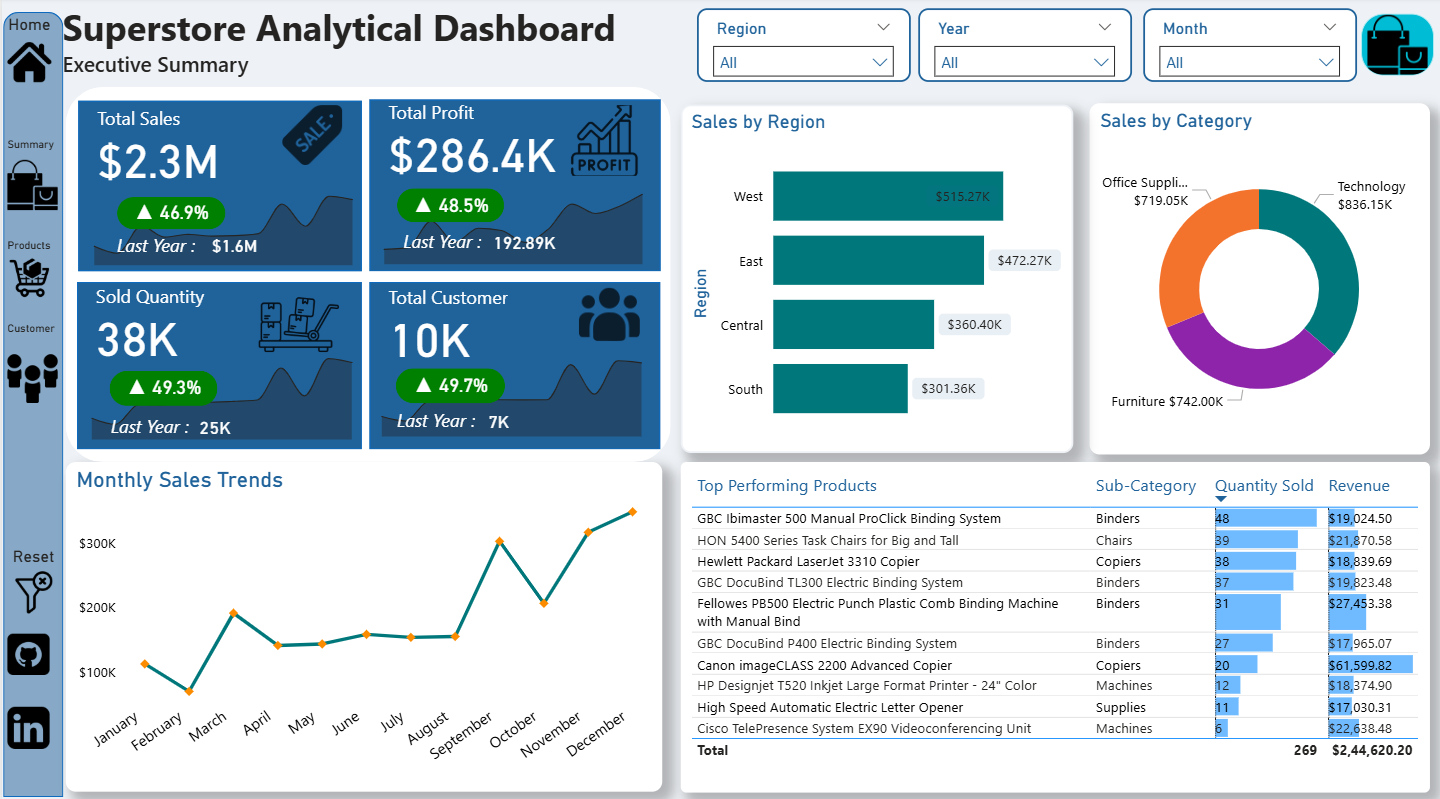

Layout of this report page (visuals, bound fields, positions):
{"tool":"powerbi","page":{"name":"Executive Summary","canvas":[1280,720],"ordinal":1},"visuals":[{"type":"shape","box":[1.1,13.8,53.4,699.1],"z":0,"group":"g11"},{"type":"group","id":"g1","title":"Group 7","box":[327.8,91.4,259.3,153.1],"z":0,"group":"g18"},{"type":"shape","title":"YoY PG","box":[352.7,170.6,95.5,30.4],"z":0,"group":"g9"},{"type":"shape","title":"YoY PG","box":[102.3,178.1,96.6,28.8],"z":0,"group":"g3"},{"type":"shape","box":[358.3,193.6,71.8,45.9],"z":0,"group":"g10"},{"type":"shape","box":[102.5,199.7,75.5,40],"z":0,"group":"g7"},{"type":"areaChart","fields":{"Category":["Date Table.Month"],"Y":["CountNonNull(Orders.Customer ID)"]},"box":[325,308.9,258.1,89.3],"z":0,"group":"g4"},{"type":"shape","title":"YoY PG","box":[351.1,331,97.4,31.3],"z":0,"group":"g2"},{"type":"shape","title":"YoY PG","box":[96.9,332.9,96.4,31.5],"z":0,"group":"g5"},{"type":"shape","box":[352.2,351.6,72.3,49.5],"z":0,"group":"g6"},{"type":"shape","box":[96.9,359.9,70.1,43.5],"z":0,"group":"g8"},{"type":"lineChart","title":"Monthly Sales Trends","fields":{"Category":["Orders.Month Name(Delivery)"],"Y":["Sum(Orders.Sales)"]},"box":[56.8,414.1,531,293.9],"z":0},{"type":"shape","box":[56.8,80.1,538.8,334],"z":1000},{"type":"cardVisual","fields":{"Data":["_Measure Table.Total Profit"]},"box":[327.8,91.4,259.3,73.9],"z":1000,"group":"g18"},{"type":"areaChart","fields":{"Y":["Sum(Orders.Sales)"],"Category":["Date Table.Month"]},"box":[68.9,154.6,256.6,90.2],"z":1000,"group":"g15"},{"type":"cardVisual","title":"YoY%","fields":{"Data":["_Measure Table.YoY % Profit"]},"box":[346.9,164.8,107.1,36.1],"z":1000,"group":"g9"},{"type":"cardVisual","title":"YoY%","fields":{"Data":["_Measure Table.YoY % Sales"]},"box":[96.4,172.6,108.3,34.3],"z":1000,"group":"g3"},{"type":"cardVisual","title":"YoY%","fields":{"Data":["_Measure Table.LY Profit"]},"box":[430.1,196.8,95.7,39.6],"z":1000,"group":"g10"},{"type":"cardVisual","title":"YoY%","fields":{"Data":["_Measure Table.LY Sales"]},"box":[178,202.5,100.6,34.5],"z":1000,"group":"g7"},{"type":"areaChart","fields":{"Y":["Sum(Orders.Quantity)"],"Category":["Date Table.Month"]},"box":[67.2,304.9,258.4,95.1],"z":1000,"group":"g16"},{"type":"group","id":"g2","title":"YoY % Sales","box":[345.2,325,109.2,37.3],"z":1000,"group":"g4"},{"type":"cardVisual","title":"YoY%","fields":{"Data":["_Measure Table.YoY % Customer"]},"box":[345.2,325,109.2,37.3],"z":1000,"group":"g2"},{"type":"cardVisual","title":"YoY%","fields":{"Data":["_Measure Table.YoY % Quantity"]},"box":[91.1,326.9,108,37.5],"z":1000,"group":"g5"},{"type":"cardVisual","title":"YoY%","fields":{"Data":["_Measure Table.LY Customer"]},"box":[424.5,355,96.4,42.7],"z":1000,"group":"g6"},{"type":"cardVisual","title":"YoY%","fields":{"Data":["_Measure Table.LY Quantity"]},"box":[167,362.9,93.4,37.5],"z":1000,"group":"g8"},{"type":"image","title":"Reset","box":[0,490.3,56.5,64.4],"z":1000,"group":"g11"},{"type":"shape","box":[327.8,91.4,259.3,153.1],"z":1500,"group":"g1"},{"type":"cardVisual","fields":{"Data":["_Measure Table.Total Customer"]},"box":[327.7,253.8,258.9,76.6],"z":1500,"group":"g4"},{"type":"image","title":"Home","box":[0,16,49,67.9],"z":2000,"group":"g11"},{"type":"areaChart","fields":{"Category":["Date Table.Month"],"Y":["Sum(Orders.Profit)"]},"box":[327.8,138.4,256.6,106.1],"z":2000,"group":"g1"},{"type":"group","id":"g3","title":"YoY % Sales","box":[96.4,172.6,108.8,34.2],"z":2000,"group":"g15"},{"type":"group","id":"g4","title":"Group 1","box":[325,253.8,261.6,147.3],"z":2000,"group":"g13"},{"type":"group","id":"g5","title":"YoY % Sales","box":[91.1,326.9,108,37.5],"z":2000,"group":"g16"},{"type":"group","id":"g6","title":"Last Year Sale","box":[352.2,351.6,168.8,49.5],"z":2000,"group":"g4"},{"type":"donutChart","title":"Sales by Category","fields":{"Category":["Orders.Category"],"Y":["Sum(Orders.Sales)"]},"box":[968.8,94.1,302.8,312.5],"z":3000},{"type":"image","title":"Summary","box":[0,126.2,54.5,72.4],"z":3000,"group":"g11"},{"type":"group","id":"g7","title":"Last Year Sale","box":[102.5,199.7,176,39.7],"z":3000,"group":"g15"},{"type":"group","id":"g8","title":"Last Year Sale","box":[96.9,359.9,163.5,43.5],"z":3000,"group":"g16"},{"type":"group","id":"g9","title":"YoY % Sales","box":[346.9,164.8,107.5,36.3],"z":4000,"group":"g1"},{"type":"image","title":"Products","box":[0,216.4,49,57.9],"z":4000,"group":"g11"},{"type":"textbox","box":[49.5,0,553.8,80.8],"z":5000},{"type":"image","title":"Customer","box":[0,289.9,54.5,90.2],"z":5000,"group":"g11"},{"type":"group","id":"g10","title":"Last Year Sale","box":[358.3,193.6,167.9,45.7],"z":6000,"group":"g1"},{"type":"image","box":[0,556.9,47.4,57.6],"z":6000,"group":"g11"},{"type":"slicer","fields":{"Values":["Orders.Region"]},"box":[618.9,10,190,65.7],"z":7000},{"type":"slicer","fields":{"Values":["Date Table.Year"]},"box":[816,10,190,65.7],"z":8000},{"type":"clusteredBarChart","title":"Sales by Region","fields":{"Category":["Orders.Region"],"Y":["Sum(Orders.Sales)"]},"box":[604.4,95.3,349.9,310.1],"z":9000},{"type":"slicer","fields":{"Values":["Orders.Month Name(Delivery)"]},"box":[1016.3,10,190,65.7],"z":10000},{"type":"tableEx","title":"Top Performing Products","fields":{"Values":["Orders.Product Name","Orders.Sub-Category","Sum(Orders.Quantity)","Sum(Orders.Sales)"]},"box":[604.4,413.8,667.2,294.4],"z":11000},{"type":"image","title":"Summary","box":[1205.2,9.7,74.8,65.1],"z":12000},{"type":"group","id":"g11","title":"Group 3","box":[0,13.8,56.5,699.1],"z":13000},{"type":"shape","box":[67.6,93.1,252.6,151.8],"z":14000,"group":"g17"},{"type":"group","id":"g12","title":"Group 2","box":[325,253.8,261.6,149.2],"z":14000},{"type":"shape","box":[327.7,253.8,258.9,149.2],"z":14000,"group":"g12"},{"type":"shape","box":[67.2,253.9,253.9,149.1],"z":14000,"group":"g14"},{"type":"group","id":"g13","title":"Customer","box":[325,253.8,261.6,147.3],"z":15000,"group":"g12"},{"type":"group","id":"g14","title":"Group 4","box":[67.2,253.9,257.9,149.1],"z":15000},{"type":"cardVisual","fields":{"Data":["_Measure Table.Total Sales"]},"box":[67.6,91.7,252.6,83.4],"z":15001,"group":"g17"},{"type":"cardVisual","fields":{"Data":["_Measure Table.Sold Quantity"]},"box":[67.2,253.9,252.6,76.6],"z":15001,"group":"g14"},{"type":"group","id":"g15","title":"Group 5","box":[68.9,154.6,256.6,90.2],"z":15501,"group":"g17"},{"type":"group","id":"g16","title":"Quantity","box":[67.2,304.9,257.9,98.1],"z":15501,"group":"g14"},{"type":"group","id":"g17","title":"Group 6","box":[67.6,91.7,257,153.2],"z":16000},{"type":"group","id":"g18","title":"Group 8","box":[327.8,91.4,259.3,153.1],"z":17003},{"type":"image","box":[0,614.3,47.4,72.3],"z":20000}]}

Visuals, with their boxes in screenshot pixels (x1, y1, x2, y2):
shape: box=[0, 4, 58, 797]
"Group 7" group: box=[368, 92, 662, 266]
"YoY PG" shape: box=[396, 182, 505, 217]
"YoY PG" shape: box=[112, 191, 222, 223]
shape: box=[403, 208, 484, 260]
shape: box=[113, 215, 198, 261]
areaChart - Date Table.Month x CountNonNull(Orders.Customer ID): box=[365, 339, 658, 440]
"YoY PG" shape: box=[394, 364, 505, 400]
"YoY PG" shape: box=[106, 366, 216, 402]
shape: box=[396, 388, 478, 444]
shape: box=[106, 397, 186, 446]
"Monthly Sales Trends" lineChart: box=[61, 458, 663, 792]
shape: box=[61, 80, 672, 458]
cardVisual - _Measure Table.Total Profit: box=[368, 92, 662, 176]
areaChart - Sum(Orders.Sales) x Date Table.Month: box=[74, 164, 365, 266]
"YoY%" cardVisual: box=[390, 176, 511, 217]
"YoY%" cardVisual: box=[106, 185, 228, 223]
"YoY%" cardVisual: box=[484, 212, 593, 257]
"YoY%" cardVisual: box=[198, 218, 312, 258]
areaChart - Sum(Orders.Quantity) x Date Table.Month: box=[72, 335, 366, 442]
"YoY % Sales" group: box=[388, 357, 512, 400]
"YoY%" cardVisual: box=[388, 357, 512, 400]
"YoY%" cardVisual: box=[100, 360, 222, 402]
"YoY%" cardVisual: box=[478, 391, 587, 440]
"YoY%" cardVisual: box=[186, 400, 292, 443]
"Reset" image: box=[0, 545, 60, 618]
shape: box=[368, 92, 662, 266]
cardVisual - _Measure Table.Total Customer: box=[368, 277, 662, 364]
"Home" image: box=[0, 7, 52, 84]
areaChart - Date Table.Month x Sum(Orders.Profit): box=[368, 146, 659, 266]
"YoY % Sales" group: box=[106, 185, 229, 223]
"Group 1" group: box=[365, 277, 662, 444]
"YoY % Sales" group: box=[100, 360, 222, 402]
"Last Year Sale" group: box=[396, 388, 587, 444]
"Sales by Category" donutChart: box=[1095, 95, 1439, 450]
"Summary" image: box=[0, 132, 58, 214]
"Last Year Sale" group: box=[113, 215, 312, 260]
"Last Year Sale" group: box=[106, 397, 292, 446]
"YoY % Sales" group: box=[390, 176, 512, 217]
"Products" image: box=[0, 234, 52, 300]
textbox: box=[52, 0, 681, 80]
"Customer" image: box=[0, 318, 58, 420]
"Last Year Sale" group: box=[403, 208, 593, 260]
image: box=[0, 620, 50, 686]
slicer - Orders.Region: box=[698, 0, 914, 75]
slicer - Date Table.Year: box=[922, 0, 1137, 75]
"Sales by Region" clusteredBarChart: box=[682, 97, 1079, 449]
slicer - Orders.Month Name(Delivery): box=[1149, 0, 1364, 75]
"Top Performing Products" tableEx: box=[682, 458, 1439, 792]
"Summary" image: box=[1363, 0, 1439, 74]
"Group 3" group: box=[0, 4, 60, 797]
shape: box=[73, 94, 359, 267]
"Group 2" group: box=[365, 277, 662, 446]
shape: box=[368, 277, 662, 446]
shape: box=[72, 277, 360, 446]
"Customer" group: box=[365, 277, 662, 444]
"Group 4" group: box=[72, 277, 365, 446]
cardVisual - _Measure Table.Total Sales: box=[73, 93, 359, 187]
cardVisual - _Measure Table.Sold Quantity: box=[72, 277, 359, 364]
"Group 5" group: box=[74, 164, 365, 266]
"Quantity" group: box=[72, 335, 365, 446]
"Group 6" group: box=[73, 93, 364, 267]
"Group 8" group: box=[368, 92, 662, 266]
image: box=[0, 686, 50, 768]
